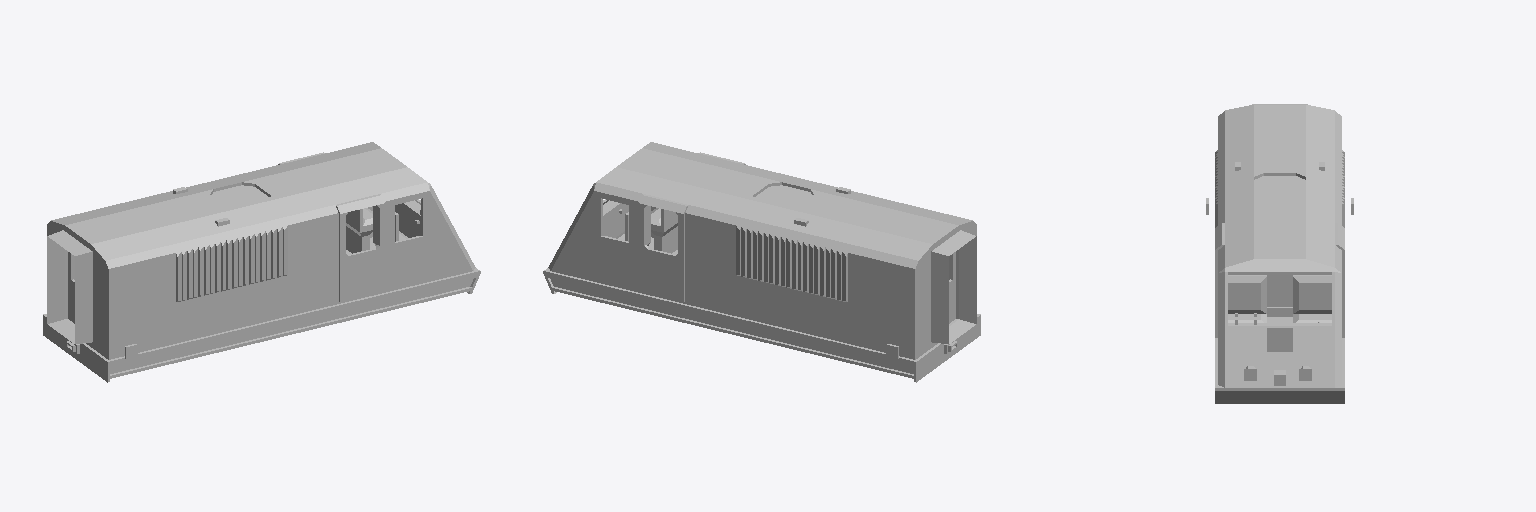
File: kitsune_elysia_mk2_javelin_powercar_rear.obj
The picture shows the model from 3 angles: view 1: azimuth 30°, elevation 25°; view 2: azimuth 150°, elevation 25°; view 3: azimuth 270°, elevation 25°; orthographic projection.
Visible parts, largest first — view 1: FRAME_0_body.ext, FRAME_0_body.ext.002, FRAME_0_body.grilles, FRAME_corridor.001, DOOR_5_EXTERNAL_TOGGLE_CG_rightcabdoor_TL_-1_X, FRAME_1, FRAME_3, FRAME_2, FRAME_end2, FRAME_bench, FRAME_controldesk; view 2: FRAME_0_body.ext, FRAME_0_body.ext.002, FRAME_0_body.grilles, FRAME_corridor.001, DOOR_4_EXTERNAL_TOGGLE_CG_leftcabdoor_TL_-1_X, FRAME_1, FRAME_3, FRAME_2, FRAME_end2, FRAME_bench.001, FRAME_controldesk; view 3: FRAME_0_body.ext, FRAME_0_body.ext.002, FRAME_end1, FRAME_bench, FRAME_bench.001, DOOR_3_TL_0.625_Z, HEADLIGHT_1_0xFFF0E1_LCG_REVERSERBACKWARD.
Boxes of the visible parts, x1=… form: FRAME_0_body.ext: x1=47, y1=154, x2=383, y2=359; FRAME_0_body.ext.002: x1=325, y1=142, x2=475, y2=292; FRAME_0_body.grilles: x1=176, y1=226, x2=287, y2=301; FRAME_corridor.001: x1=47, y1=230, x2=92, y2=343; DOOR_5_EXTERNAL_TOGGLE_CG_rightcabdoor_TL_-1_X: x1=336, y1=194, x2=384, y2=301; FRAME_1: x1=346, y1=237, x2=456, y2=320; FRAME_3: x1=133, y1=328, x2=241, y2=372; FRAME_2: x1=241, y1=302, x2=348, y2=346; FRAME_end2: x1=43, y1=314, x2=133, y2=382; FRAME_bench: x1=346, y1=208, x2=372, y2=253; FRAME_controldesk: x1=395, y1=200, x2=420, y2=237; FRAME_0_body.ext: x1=640, y1=154, x2=976, y2=359; FRAME_0_body.ext.002: x1=548, y1=142, x2=698, y2=292; FRAME_0_body.grilles: x1=736, y1=226, x2=847, y2=301; FRAME_corridor.001: x1=931, y1=230, x2=976, y2=343; DOOR_4_EXTERNAL_TOGGLE_CG_leftcabdoor_TL_-1_X: x1=639, y1=194, x2=687, y2=301; FRAME_1: x1=567, y1=237, x2=677, y2=320; FRAME_3: x1=782, y1=328, x2=890, y2=372; FRAME_2: x1=675, y1=302, x2=782, y2=346; FRAME_end2: x1=890, y1=314, x2=980, y2=382; FRAME_bench.001: x1=651, y1=208, x2=677, y2=253; FRAME_controldesk: x1=603, y1=200, x2=628, y2=237; FRAME_0_body.ext: x1=1218, y1=105, x2=1341, y2=243; FRAME_0_body.ext.002: x1=1218, y1=239, x2=1341, y2=387; FRAME_end1: x1=1215, y1=376, x2=1344, y2=403; FRAME_bench: x1=1293, y1=275, x2=1331, y2=322; FRAME_bench.001: x1=1228, y1=275, x2=1266, y2=322; DOOR_3_TL_0.625_Z: x1=1254, y1=272, x2=1305, y2=306; HEADLIGHT_1_0xFFF0E1_LCG_REVERSERBACKWARD: x1=1267, y1=328, x2=1292, y2=351.
Size of the model in its own units: 8.69 by 2.75 by 2.88.